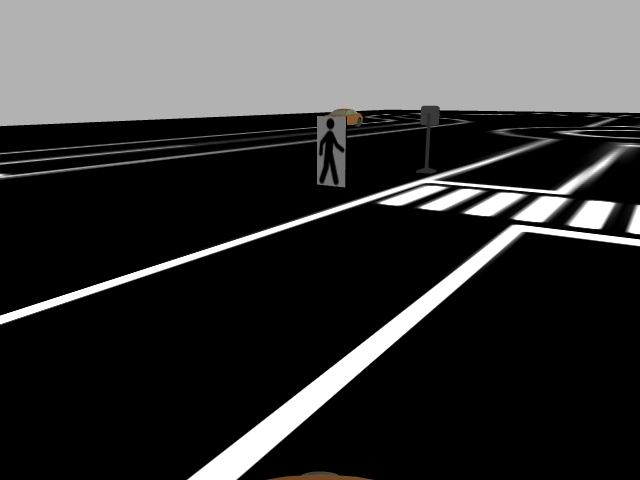pedestrian: (315, 112, 348, 187)
